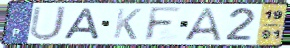2: (225, 6, 258, 43)
A: (182, 7, 223, 42), (60, 7, 102, 40)
F: (142, 6, 185, 42)
K: (111, 7, 144, 41)
U: (28, 5, 70, 42)
